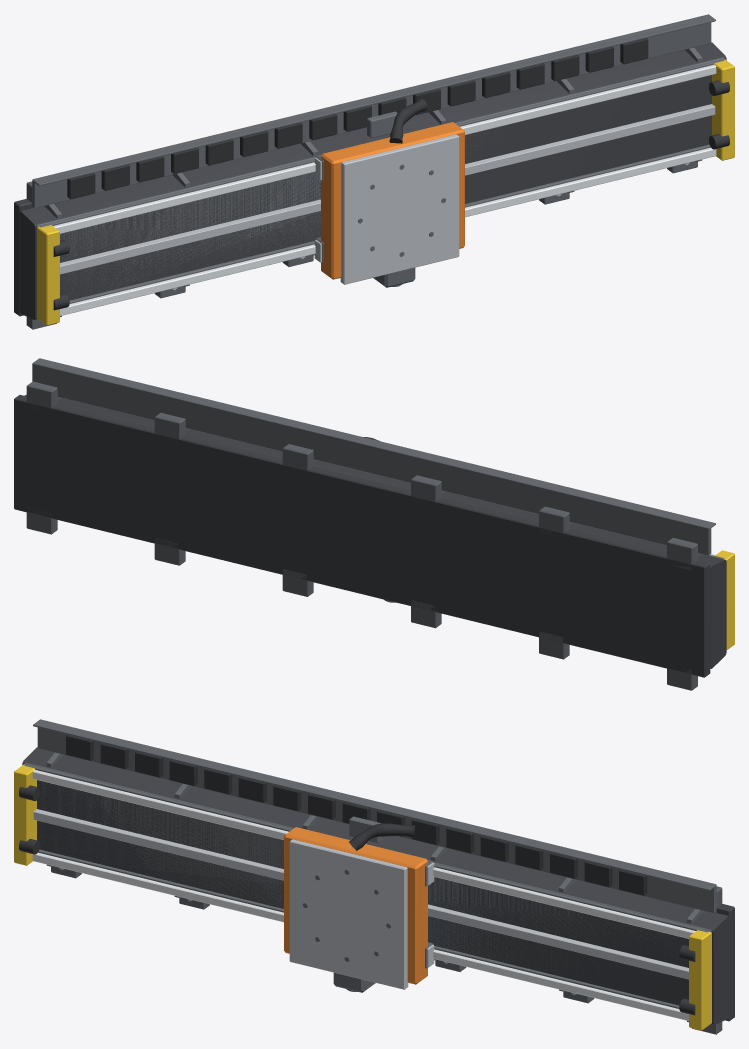
File: rail.glb
3 views of the same model, one above another, from view 1: azimuth 30°, elevation 25°; view 2: azimuth 150°, elevation 25°; view 3: azimuth 330°, elevation 25° (orthographic).
Visible parts, largest first — view 1: static, carriage; view 2: static; view 3: static, carriage.
Part boxes in pixels (x1,y1,x2,y2): static: (14,14,734,329); carriage: (314,99,464,287); static: (14,358,734,690); static: (14,719,734,1034); carriage: (284,816,434,992).
Size of the model in its own units: 3.79 by 0.8886 by 0.4075.
